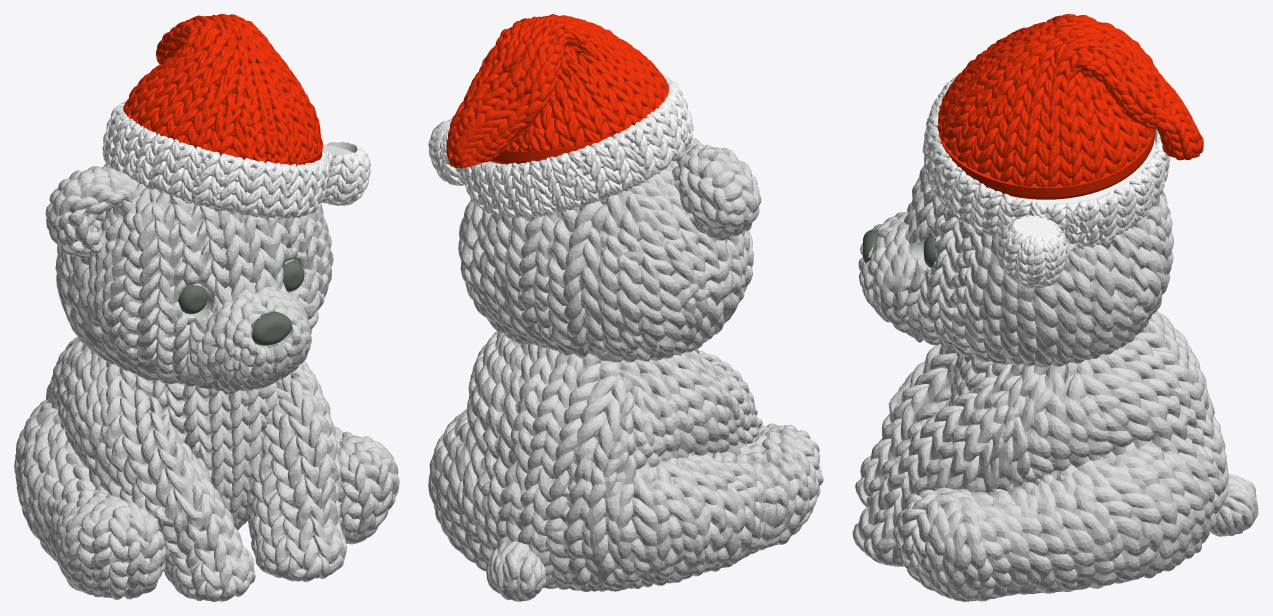
The model's file is oso_polar_armado.glb.
3 views of the same model, side by side, from view 1: azimuth 30°, elevation 25°; view 2: azimuth 150°, elevation 25°; view 3: azimuth 270°, elevation 25° (orthographic). The views are drawn at different scales.
Visible parts, largest first — view 1: cuerpo, gorro, banda_gorro, nariz, ojo_1, ojo_2; view 2: cuerpo, gorro, banda_gorro; view 3: cuerpo, gorro, banda_gorro.
Part boxes in pixels (left/top/right/bottom): cuerpo: left=14, top=163, right=399, bottom=601; gorro: left=123, top=14, right=323, bottom=166; banda_gorro: left=102, top=101, right=370, bottom=219; nariz: left=251, top=311, right=291, bottom=345; ojo_1: left=178, top=285, right=207, bottom=313; ojo_2: left=282, top=260, right=304, bottom=291; cuerpo: left=428, top=138, right=823, bottom=601; gorro: left=446, top=14, right=669, bottom=168; banda_gorro: left=428, top=75, right=693, bottom=218; cuerpo: left=852, top=165, right=1258, bottom=601; gorro: left=937, top=14, right=1203, bottom=199; banda_gorro: left=922, top=77, right=1169, bottom=288.
Bounding box in the file's own units: 0.0552 × 0.0771 × 0.0534.
